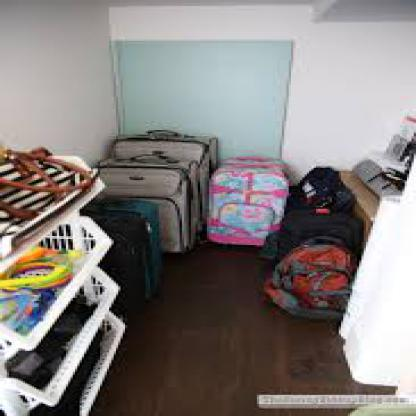maleta: (102, 126, 220, 252), (59, 189, 168, 324), (88, 153, 214, 257), (198, 145, 291, 257)
morral: (264, 233, 364, 325), (273, 201, 370, 272), (282, 164, 370, 223)
